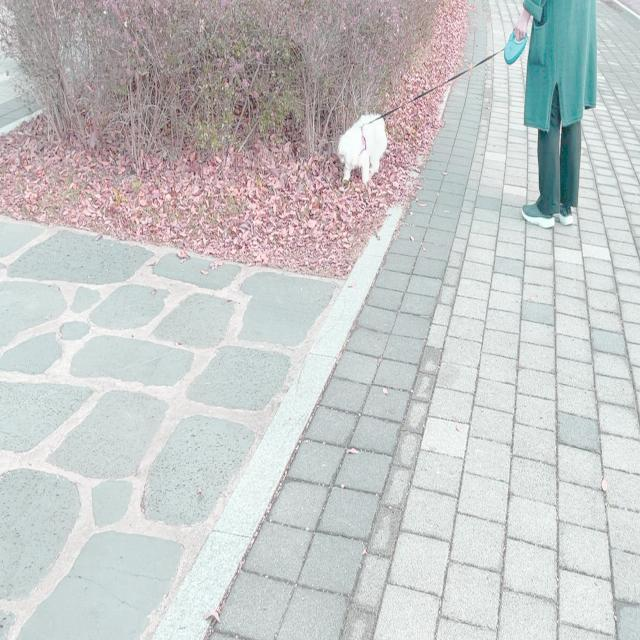Leashed_Dog: (337, 0, 566, 185)
